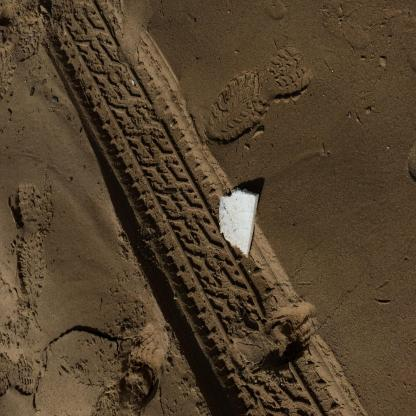Waste: (219, 188, 258, 259), (132, 80, 134, 86)
